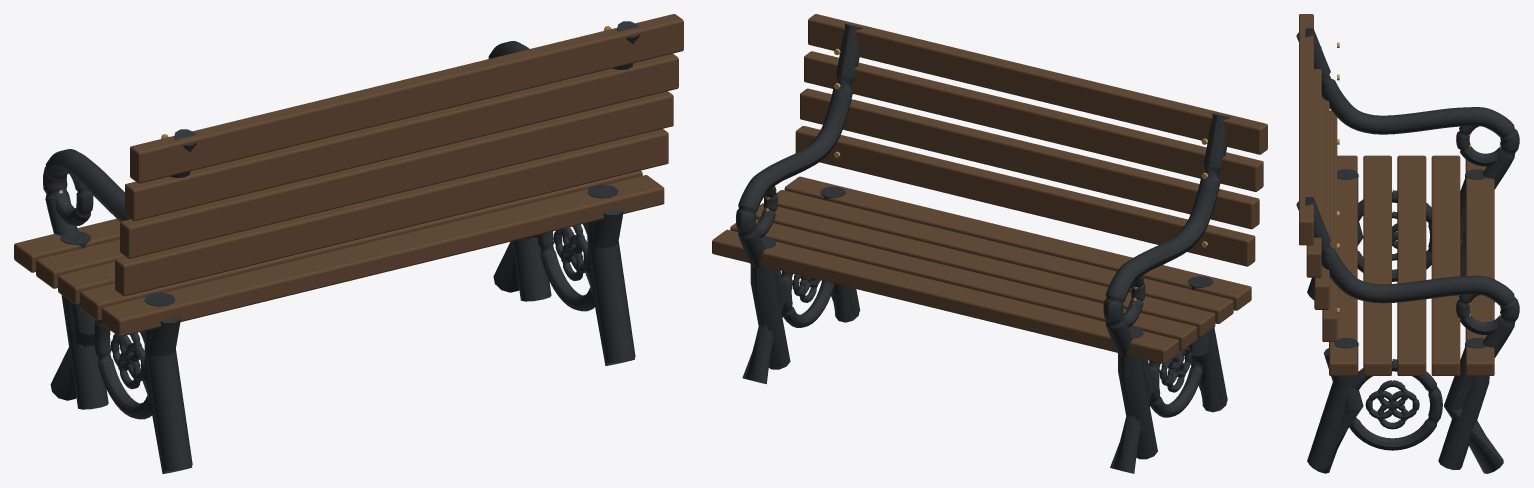
File: bench.glb
The picture shows the model from 3 angles, left to right: view 1: azimuth 30°, elevation 25°; view 2: azimuth 150°, elevation 25°; view 3: azimuth 270°, elevation 25°; orthographic projection. The views are drawn at different scales.
Visible parts, largest first — view 1: bench_wood.006, bench_black.006; view 2: bench_wood.006, bench_black.006; view 3: bench_wood.006, bench_black.006.
Boxes of the visible parts, x1,y1,x2,y2 form: bench_wood.006: (14, 14, 683, 336); bench_black.006: (43, 21, 639, 473); bench_wood.006: (712, 14, 1267, 363); bench_black.006: (736, 24, 1230, 473); bench_wood.006: (1299, 14, 1494, 375); bench_black.006: (1296, 28, 1519, 473).
Size of the model in its own units: 1.8 by 1.1 by 0.8176.
